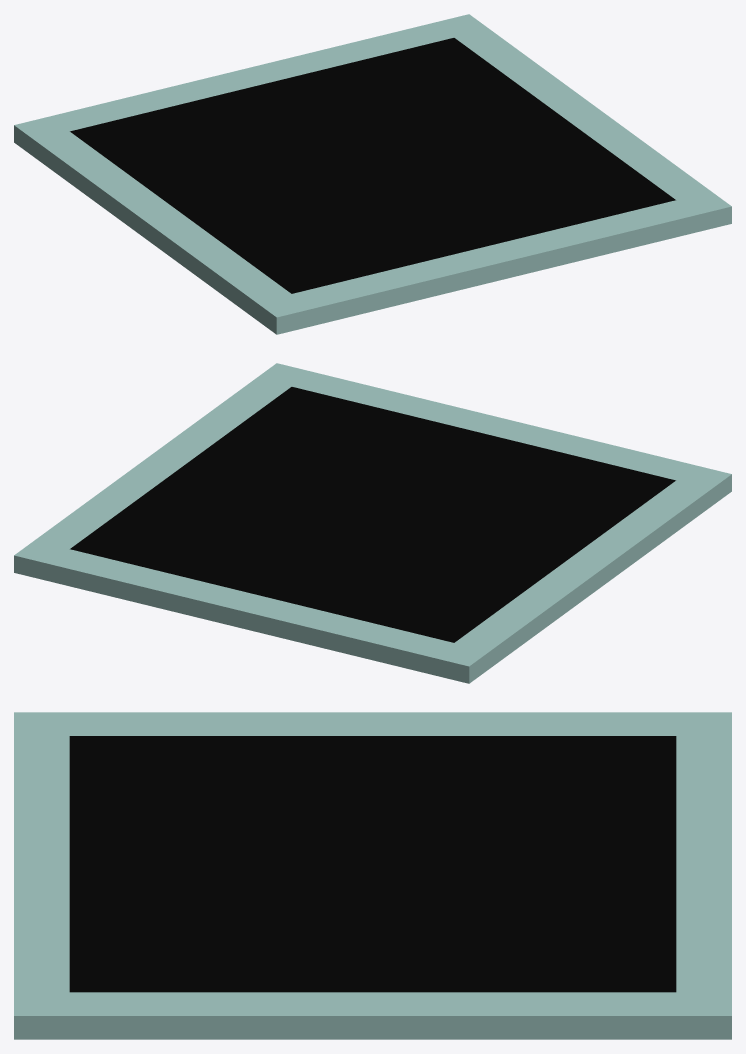
File: pda.glb
3 renders of one model, top to bottom at view 1: azimuth 30°, elevation 25°; view 2: azimuth 150°, elevation 25°; view 3: azimuth 270°, elevation 25°, orthographic. The views are drawn at different scales.
Parts seen in each view (by area): view 1: PDA; view 2: PDA; view 3: PDA.
Part boxes in pixels (left/top/right/bottom): PDA: left=14, top=14, right=731, bottom=334; PDA: left=14, top=363, right=731, bottom=683; PDA: left=14, top=712, right=731, bottom=1039.
Size of the model in its own units: 0.3015 by 0.011 by 0.3015.
